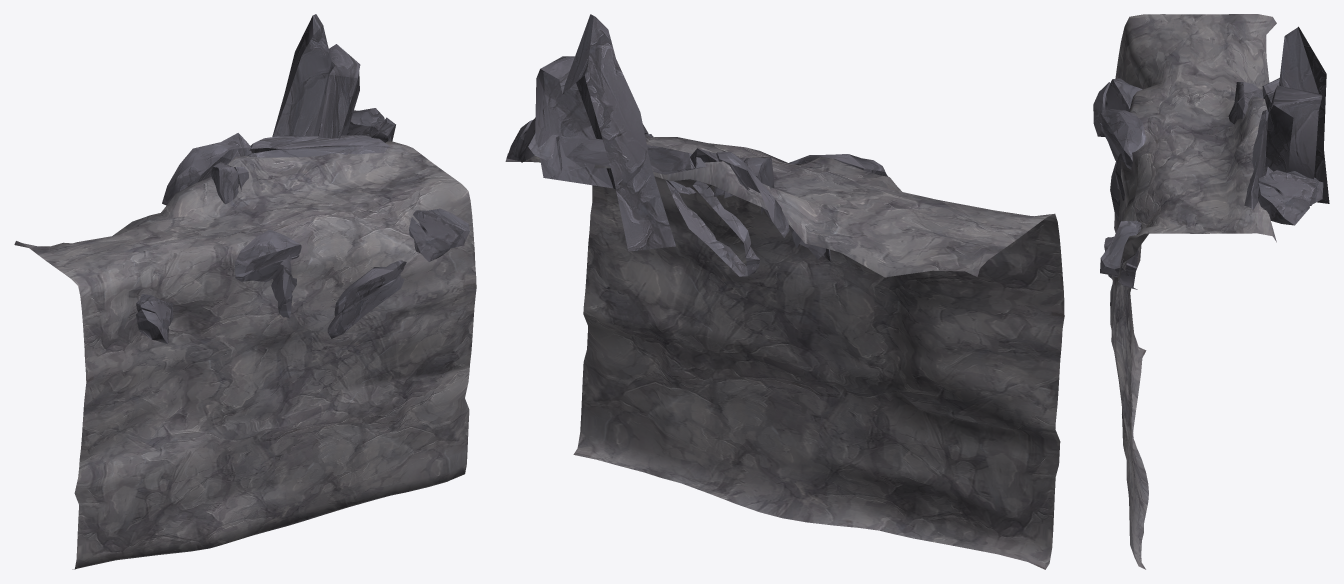
Rendered from GroundNarrow3.fbx.
The picture shows the model from 3 angles, left to right: view 1: azimuth 30°, elevation 25°; view 2: azimuth 150°, elevation 25°; view 3: azimuth 270°, elevation 25°; orthographic projection. The views are drawn at different scales.
Parts seen in each view (by area): view 1: GroundNarrow3; view 2: GroundNarrow3; view 3: GroundNarrow3.
Part boxes in pixels (x1,y1,x2,y2): GroundNarrow3: [14, 14, 476, 569]; GroundNarrow3: [505, 14, 1064, 569]; GroundNarrow3: [1093, 14, 1329, 569].
Bounding box in the file's own units: 10.1 × 10.81 × 4.55.
Materials: 3 (3 with a texture image).
